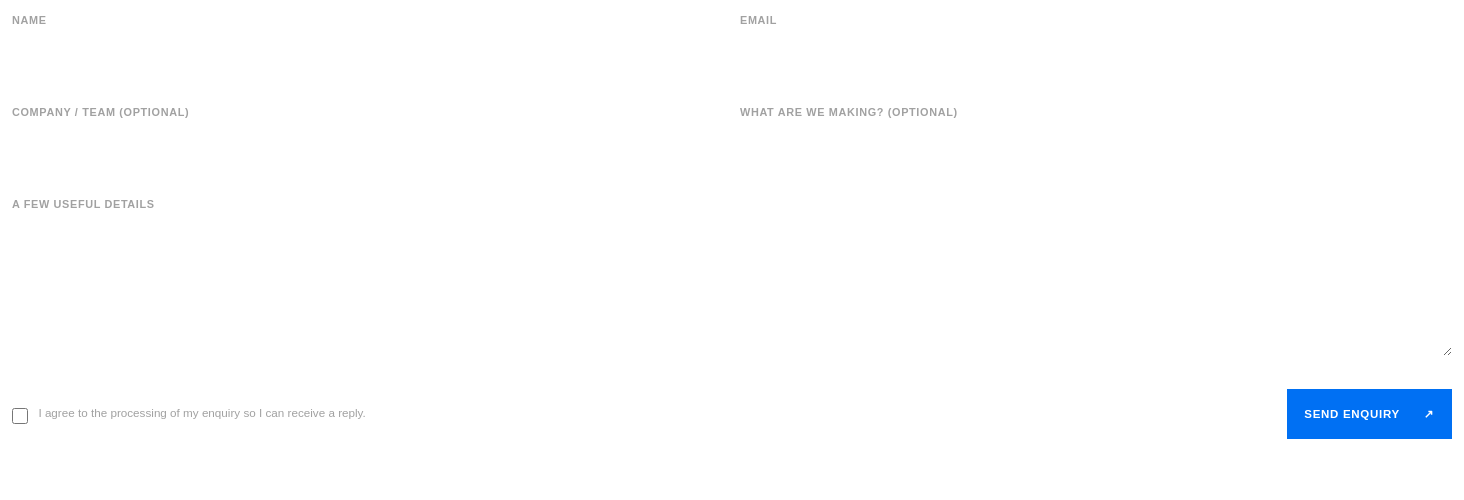
Test: ContactForm › shows localized client validation errors without submitting
Click the button "Send enquiry ↗" at (1369, 414), box [1286,389,1452,439]
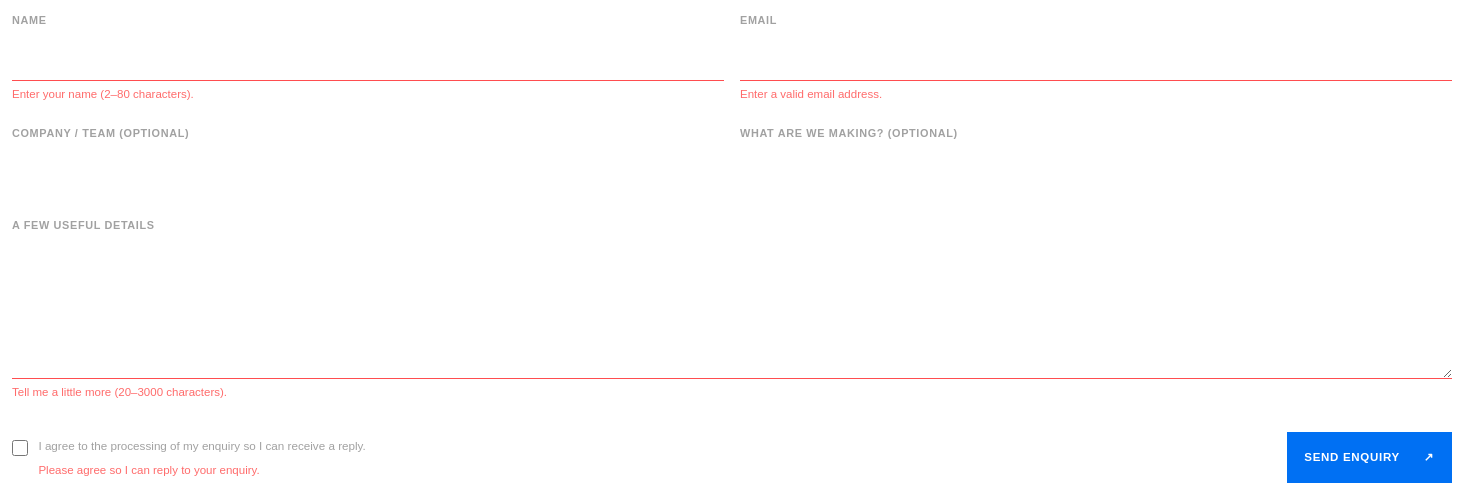
Expected: the text "Enter your name (2–80 characters)." is shown, [12,88,194,100]
Expected: the text "Enter a valid email address." is shown, [740,88,882,100]
Expected: the text "Tell me a little more (20–3000 characters)." is shown, [12,386,227,398]
